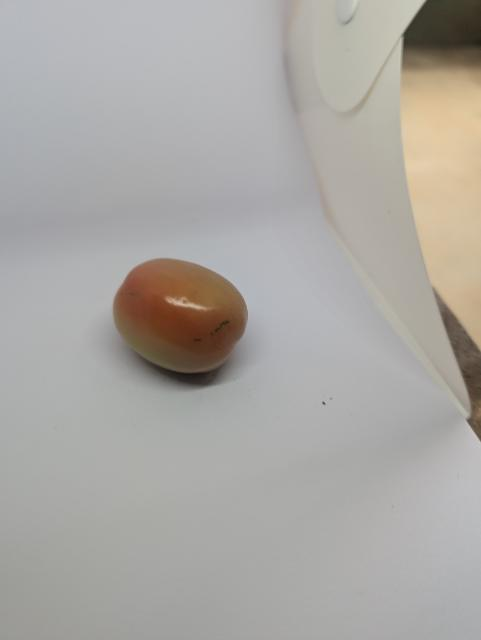turning: (105, 253, 253, 379)
